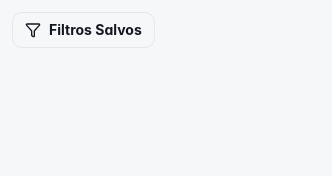
Test: SavedFiltersDropdown › mostra estado vazio quando o usuário não tem filtro salvo
Click the button "Filtros Salvos" at (83, 30), box [12,12,155,48]
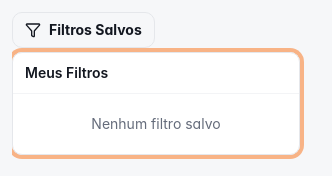
Now the text "Nenhum filtro salvo" is shown, box [91,115,221,132]
